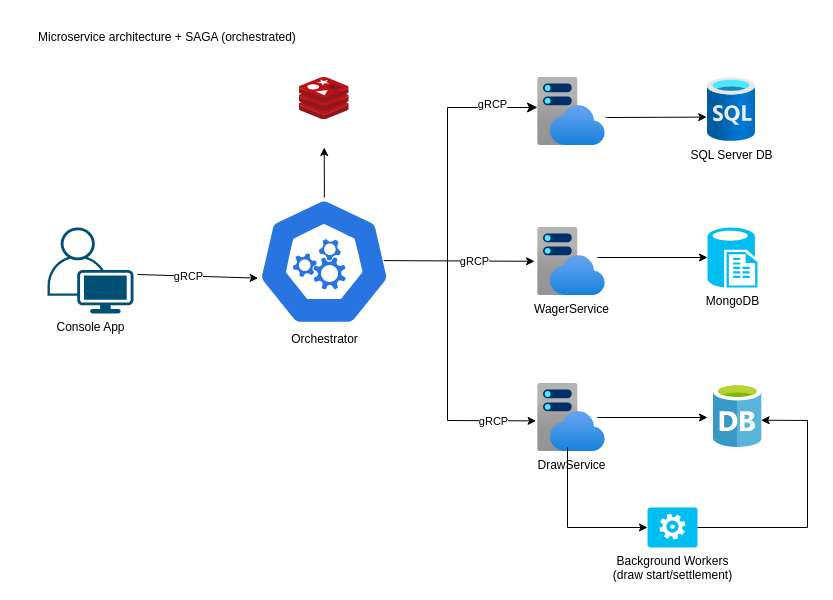
Some shapes in this 833 by 600 pixel diagram are drawn without their labels. Each missing label, with the centre of its shape:
"CouchDB" goes at (x=737, y=415).
"Redis Cache" goes at (x=324, y=98).
"WalletService" goes at (x=571, y=111).
